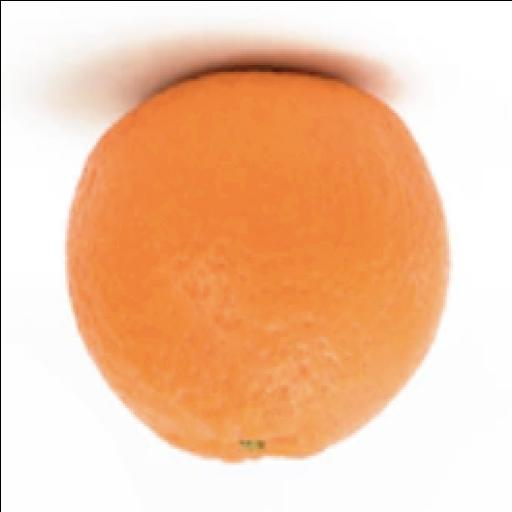orange: (66, 71, 448, 459)
